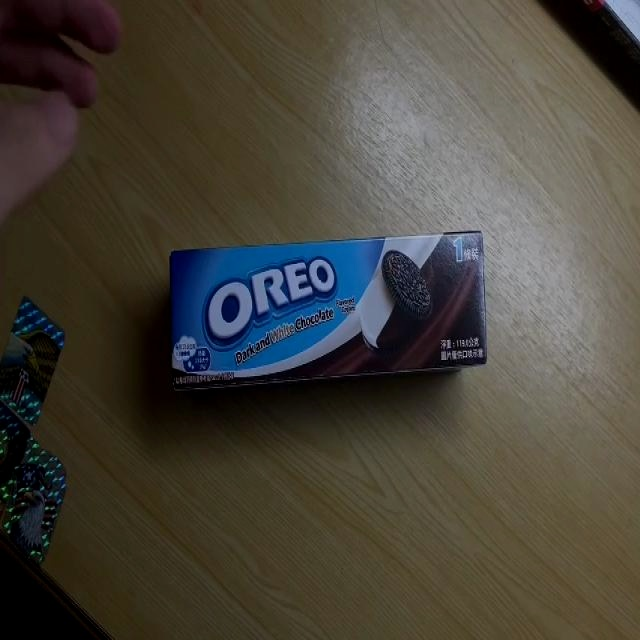Oreo: (169, 233, 488, 392)
